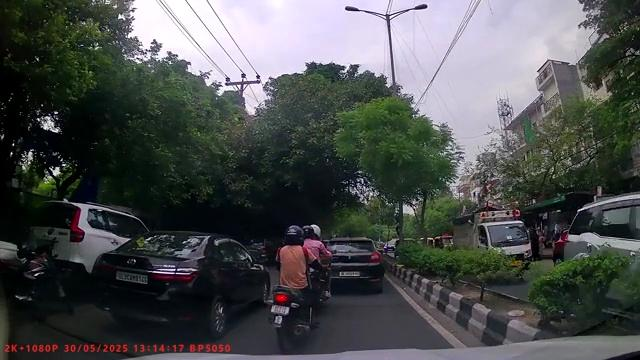motorcycle_with_helmet: (268, 222, 332, 350)
